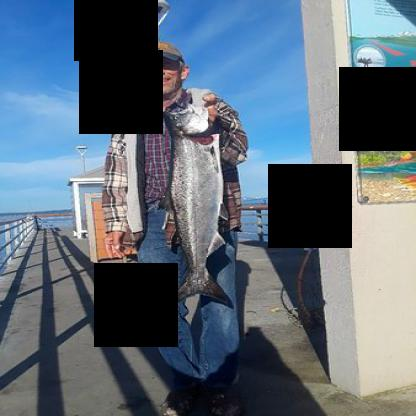fish: (155, 96, 233, 310)
